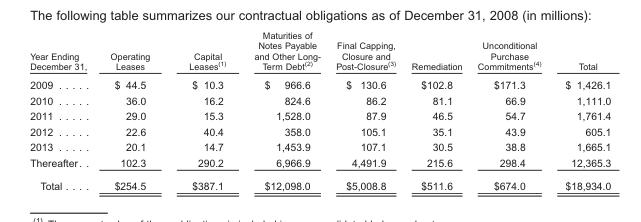table: (29, 29, 610, 191)
table column: (239, 29, 327, 191), (469, 29, 552, 191), (327, 29, 403, 191), (97, 29, 168, 191), (168, 29, 239, 191), (29, 29, 97, 191), (403, 29, 469, 191), (552, 29, 610, 191)
table column header: (29, 29, 610, 74)
table row: (29, 29, 610, 74), (29, 154, 610, 173), (29, 74, 610, 92), (29, 173, 610, 191), (29, 107, 610, 123), (29, 138, 610, 154), (29, 92, 610, 107), (29, 123, 610, 138)
